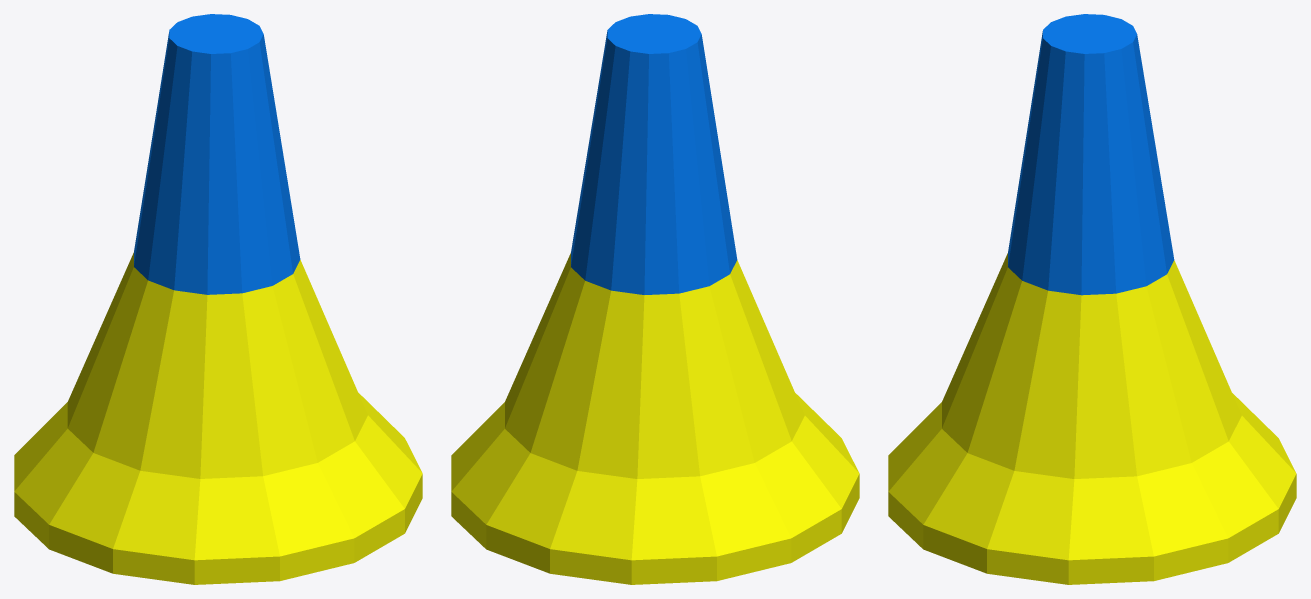
File: Tip.fbx
The picture shows the model from 3 angles, left to right: view 1: azimuth 30°, elevation 25°; view 2: azimuth 150°, elevation 25°; view 3: azimuth 270°, elevation 25°; orthographic projection.
Parts seen in each view (by area): view 1: Cylinder.001; view 2: Cylinder.001; view 3: Cylinder.001.
Part boxes in pixels (bbox=[...]): Cylinder.001: bbox=[14, 14, 422, 584]; Cylinder.001: bbox=[451, 14, 859, 584]; Cylinder.001: bbox=[888, 14, 1296, 584].
Size of the model in its own units: 58.91 by 74.48 by 58.58.
